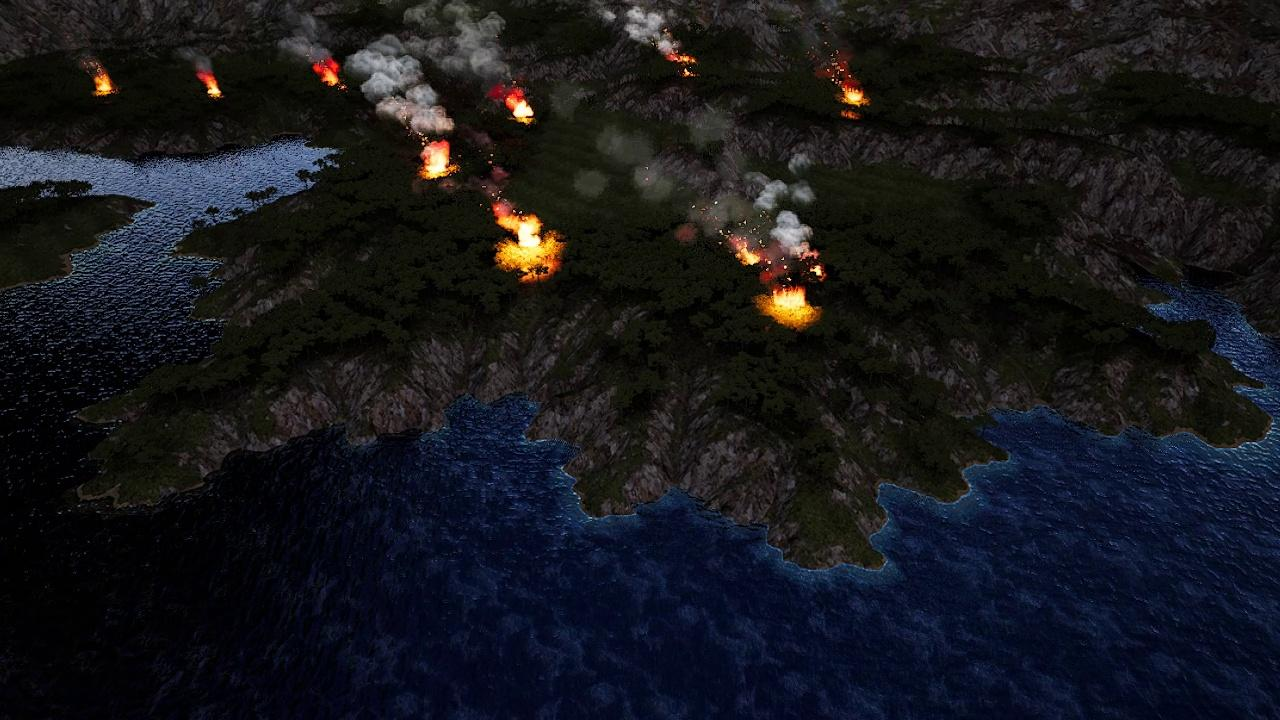fire: (497, 205, 560, 273), (768, 286, 814, 323), (418, 142, 453, 180), (496, 88, 534, 123), (729, 235, 763, 272), (665, 51, 700, 80), (317, 61, 345, 89), (199, 72, 222, 99), (93, 70, 113, 96), (841, 91, 868, 110), (810, 261, 830, 283)
smoke: (576, 104, 823, 257), (348, 2, 517, 137), (623, 0, 675, 55)
